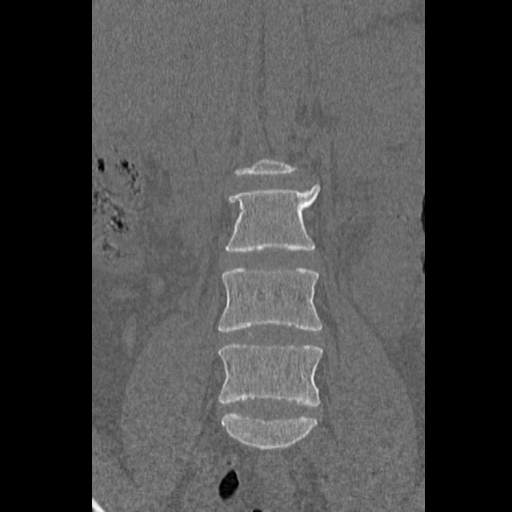bone: (215, 338, 325, 409), (219, 269, 324, 335), (225, 186, 322, 252), (219, 409, 318, 449), (238, 158, 297, 176), (92, 498, 101, 512)
